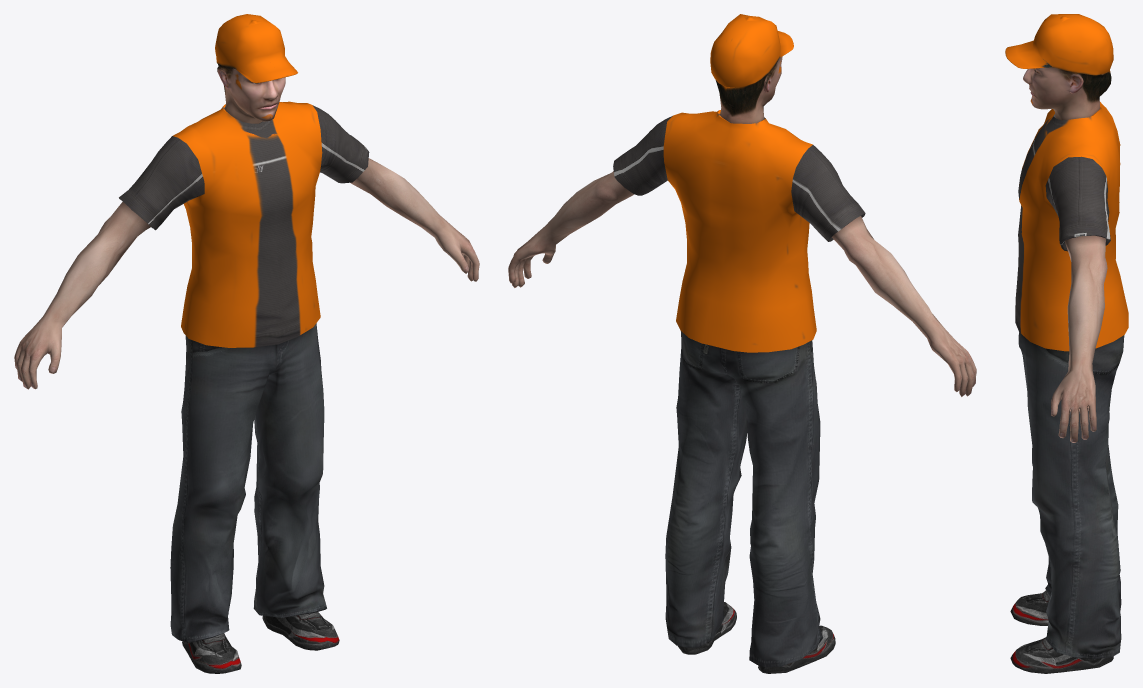
The picture shows the model from 3 angles, left to right: view 1: azimuth 30°, elevation 25°; view 2: azimuth 150°, elevation 25°; view 3: azimuth 270°, elevation 25°; orthographic projection.
Visible parts, largest first — view 1: casual12_m_highpoly; view 2: casual12_m_highpoly; view 3: casual12_m_highpoly.
Part boxes in pixels (x1=…): casual12_m_highpoly: x1=14, y1=14, x2=479, y2=673; casual12_m_highpoly: x1=508, y1=14, x2=976, y2=673; casual12_m_highpoly: x1=1005, y1=14, x2=1128, y2=673.
Bounding box in the file's own units: 3370 × 4430 × 793.
1 material, 1 textured.
